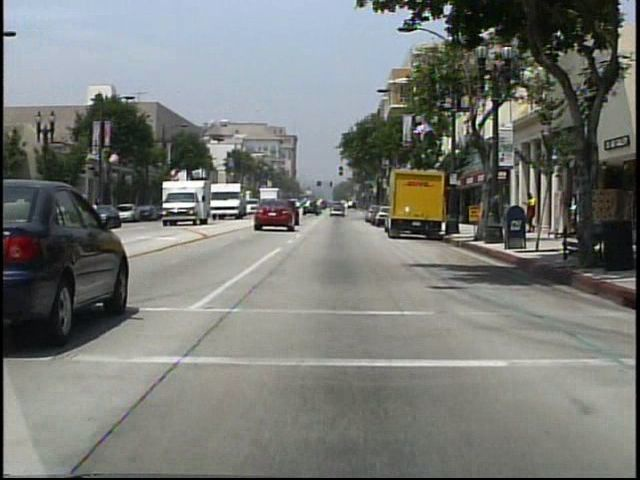person: (521, 192, 537, 236)
